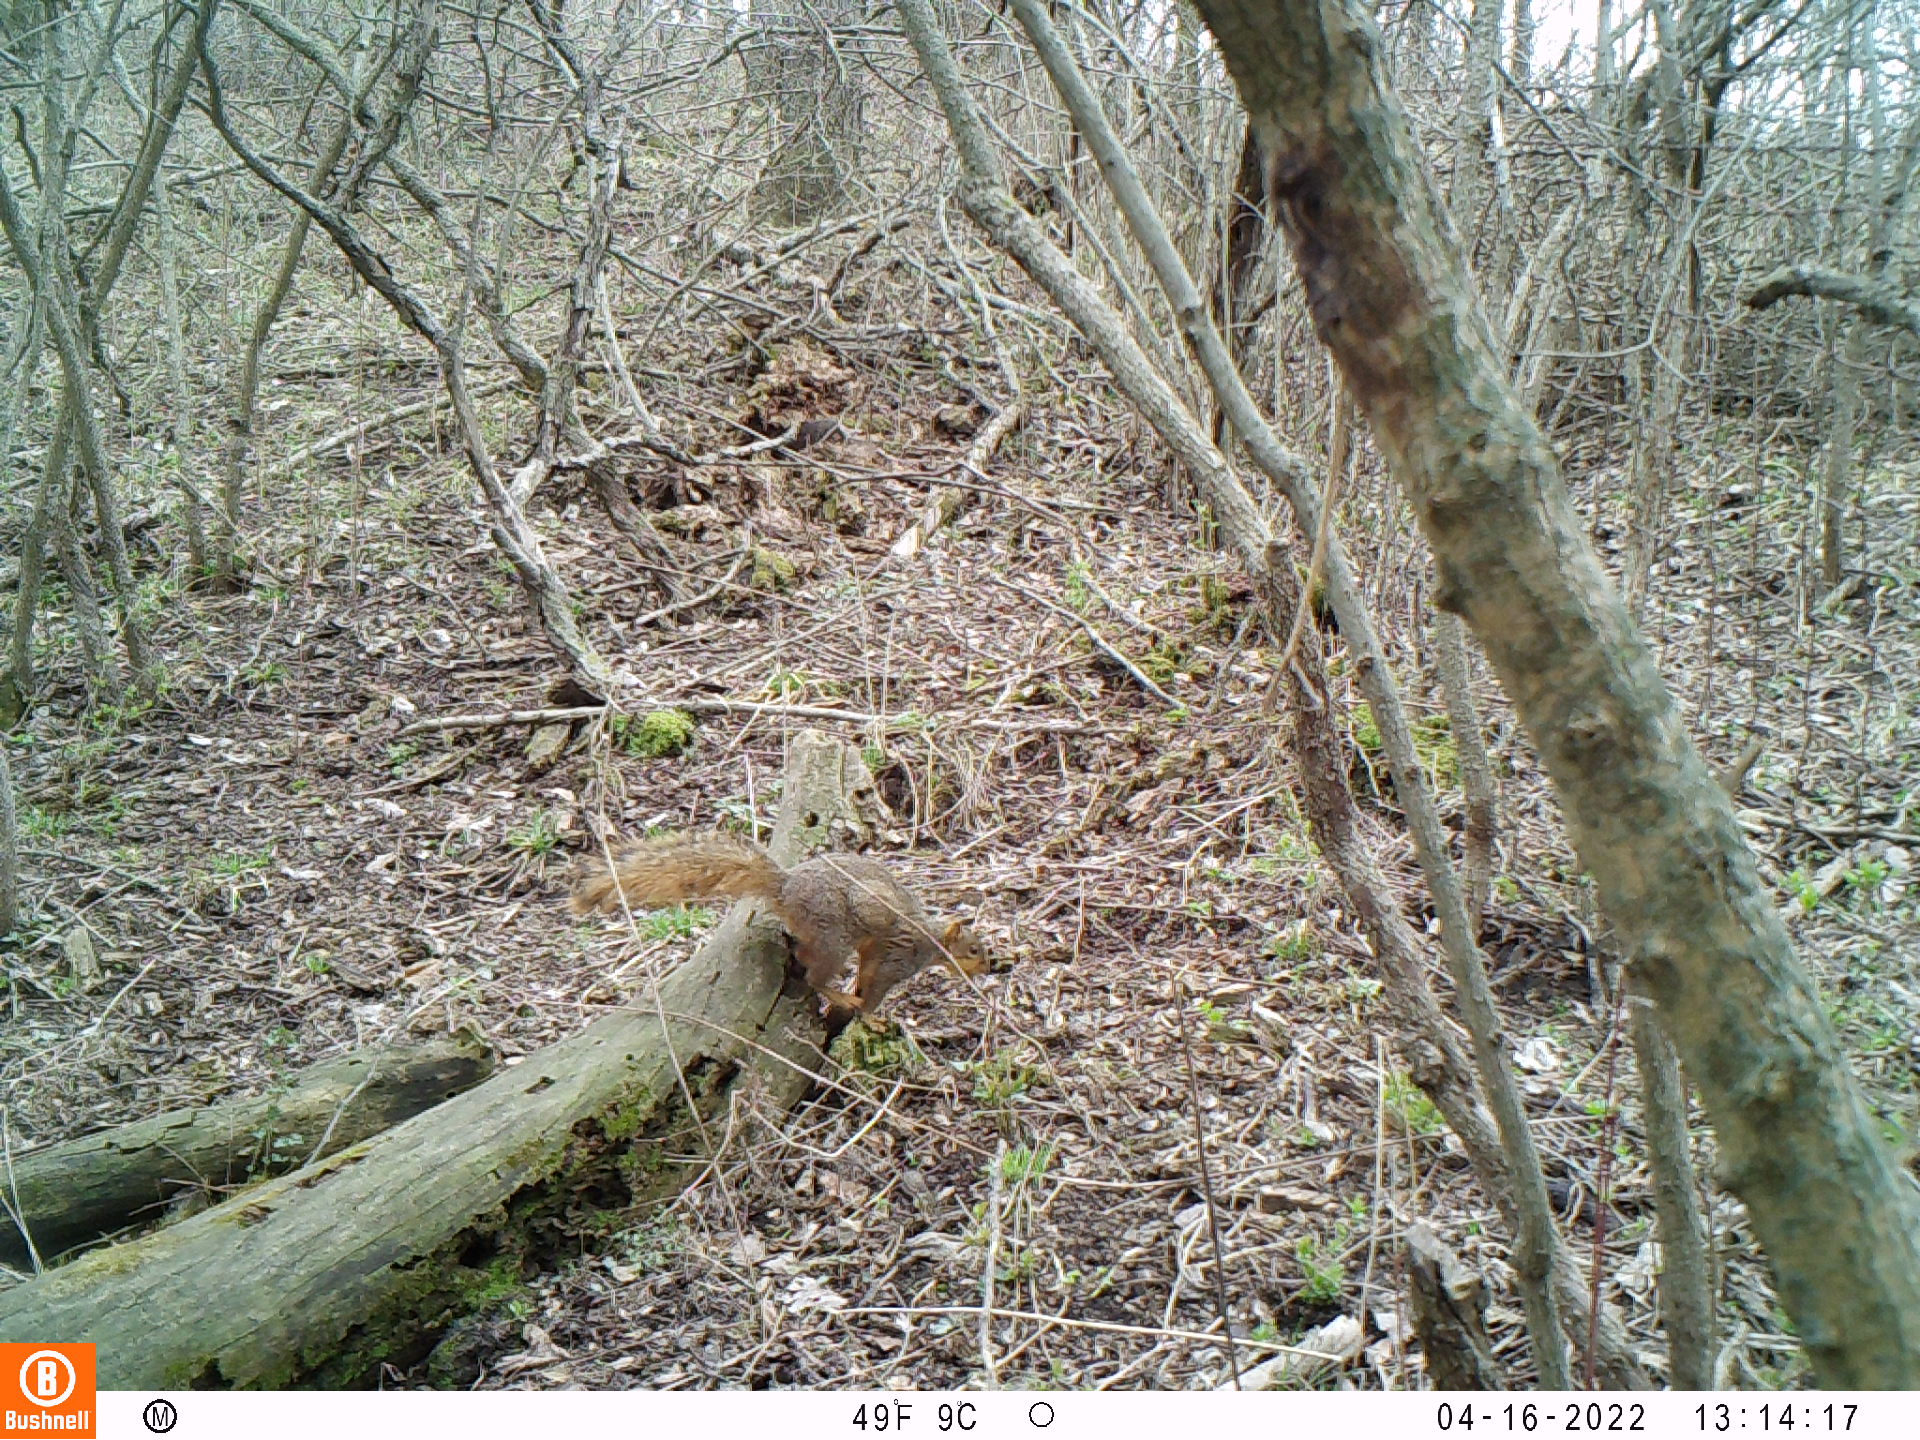Squirrel: (581, 839, 986, 1013)
